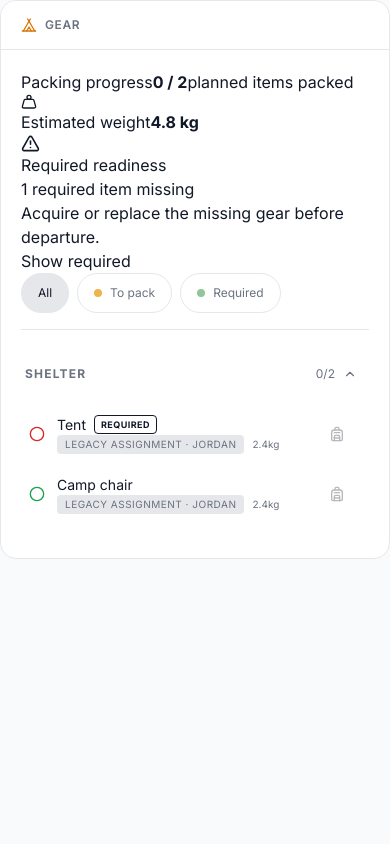
Test: GearChecklistCard › presents missing Required gear as a blocker and focuses the canonical list
Expected: the heading "1 required item missing" is shown, [21,179,194,199]
Click the button "Show required": (76, 261) [21,249,131,273]
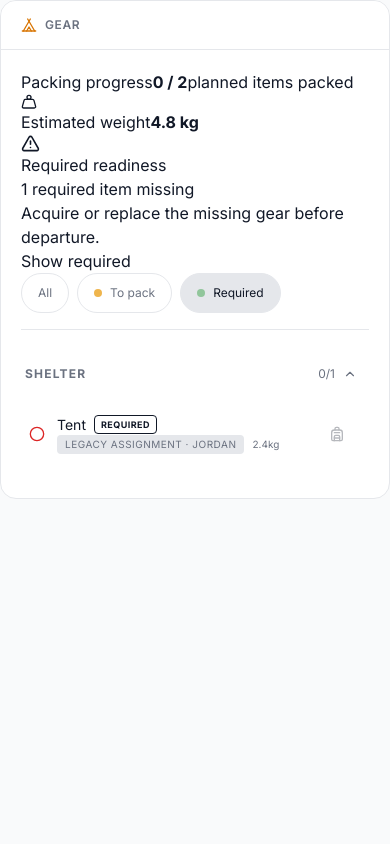
Expected: the text "Tent" is shown, [57,414,86,434]
Result: the button "Camp chair" is gone
